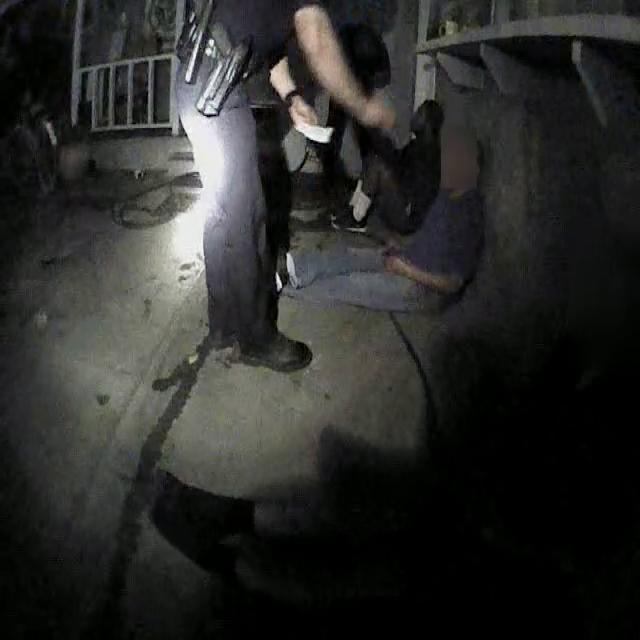gun: (194, 5, 261, 127)
